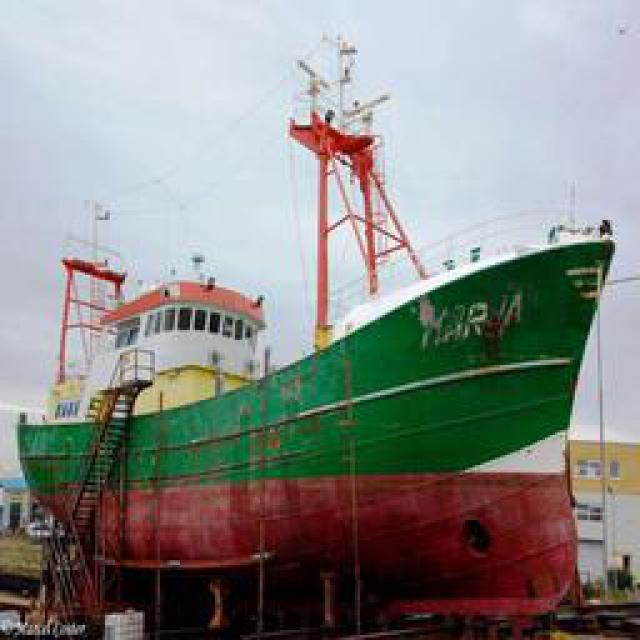Ship: (30, 167, 618, 607)
